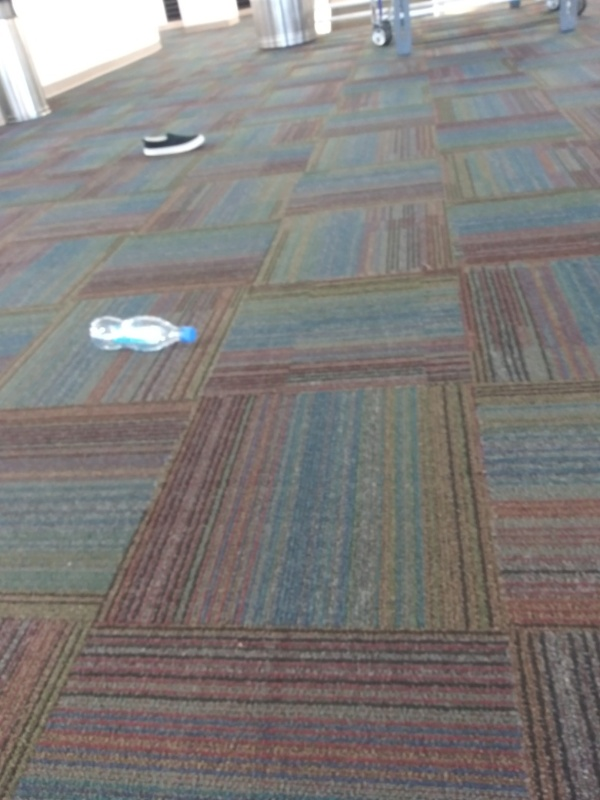bottle: (87, 312, 200, 356)
